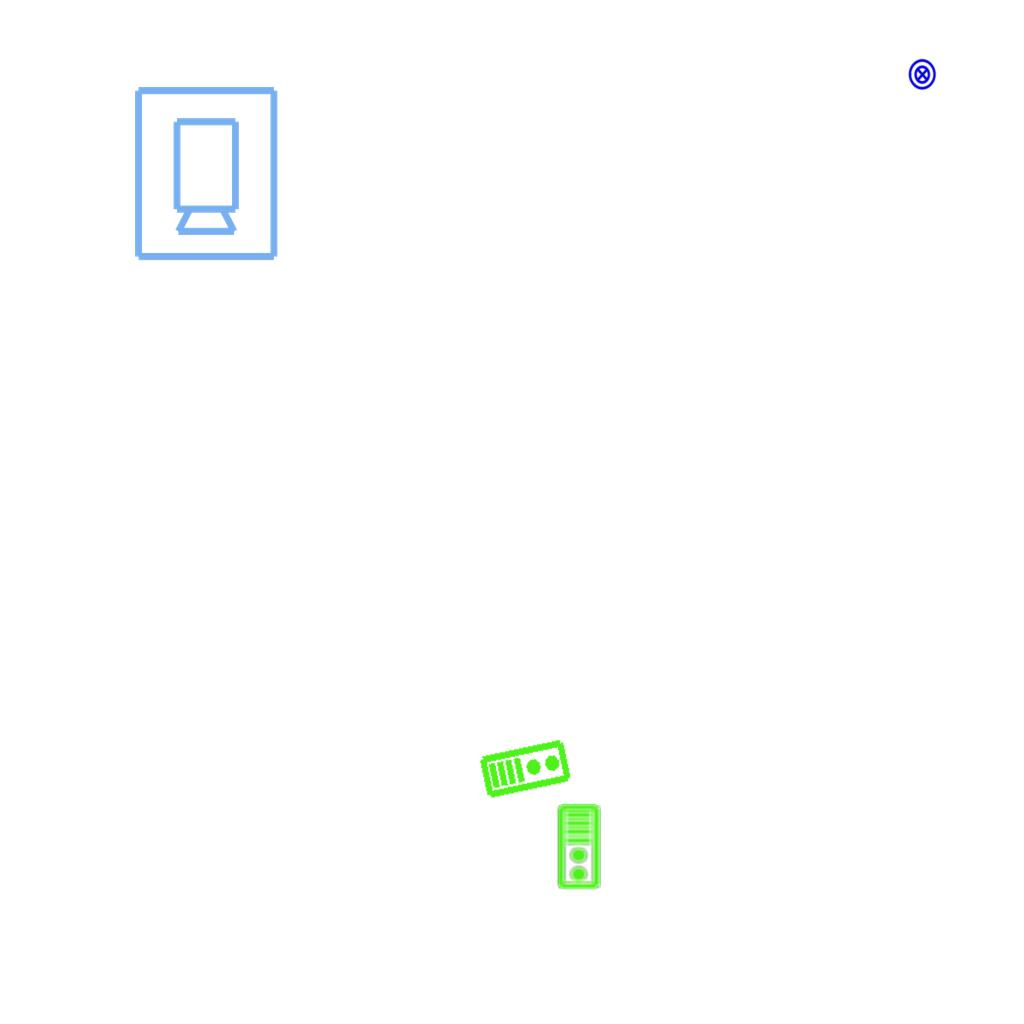Gegensprechanlage_mit_Video: (477, 735, 574, 801), (556, 803, 603, 891)
KFO_Kamera_mit_Festobjektiv: (128, 82, 282, 264)
Taster_beleuchtet: (906, 58, 939, 91)
